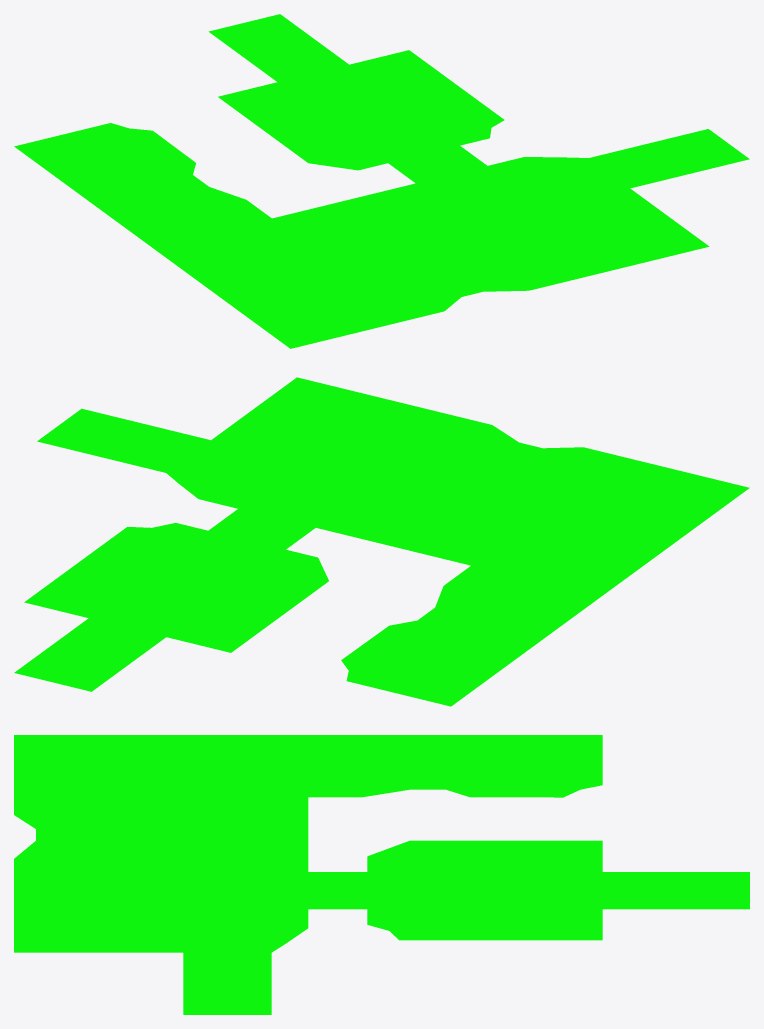
File: s04b_lc2-floor.glb
3 views of the same model, one above another, from view 1: azimuth 30°, elevation 25°; view 2: azimuth 150°, elevation 25°; view 3: azimuth 270°, elevation 25° (orthographic). The views are drawn at different scales.
Parts seen in each view (by area): view 1: collision_floor-colonly; view 2: collision_floor-colonly; view 3: collision_floor-colonly.
Boxes of the visible parts, x1,y1,x2,y2 form: collision_floor-colonly: (14,14,749,348); collision_floor-colonly: (14,377,749,706); collision_floor-colonly: (14,735,749,1014).
Size of the model in its own units: 45 by 0 by 50.
